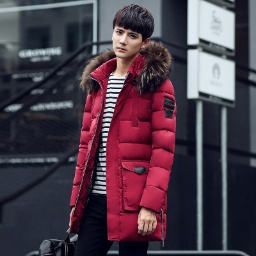face: (107, 5, 156, 59)
